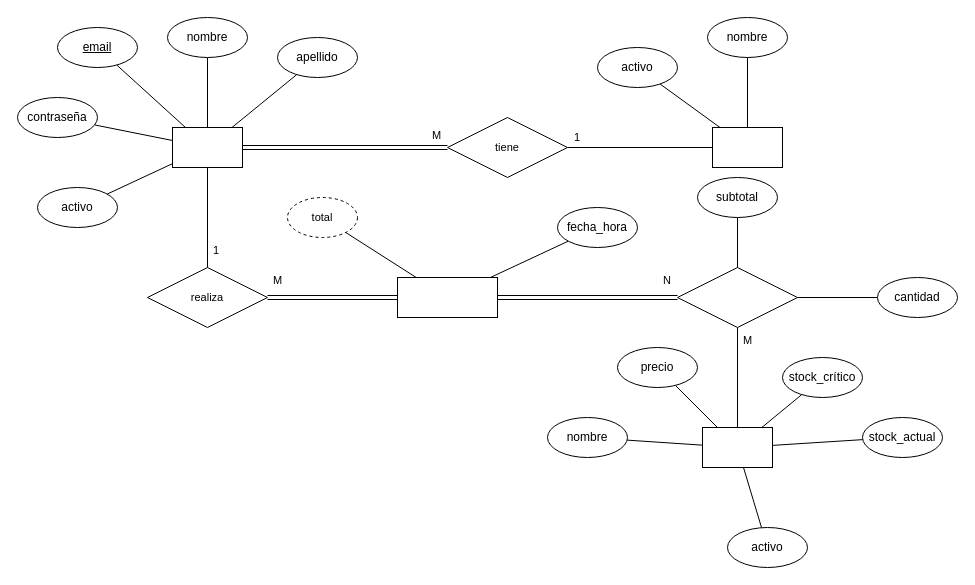
The diagram is 975 pixels wide and 585 high, and some of its shapes have lost their labels. Here are the shapes that lost their labels. From the top down, the centre of each, then its label:
At (207,147): "Usuario".
At (747,147): "Rol".
At (447,297): "Venta".
At (737,297): "posee".
At (737,447): "Producto".
